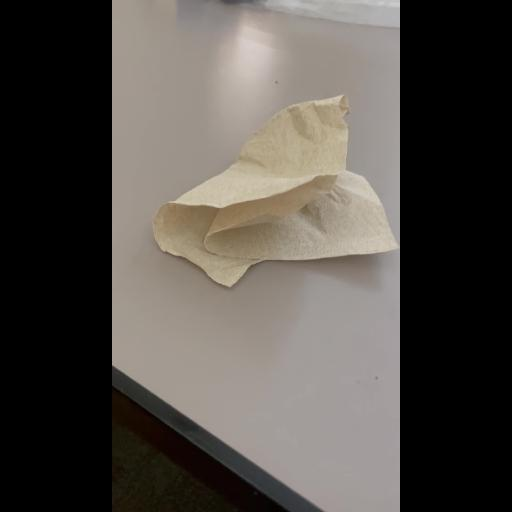napkin: (150, 96, 400, 284)
